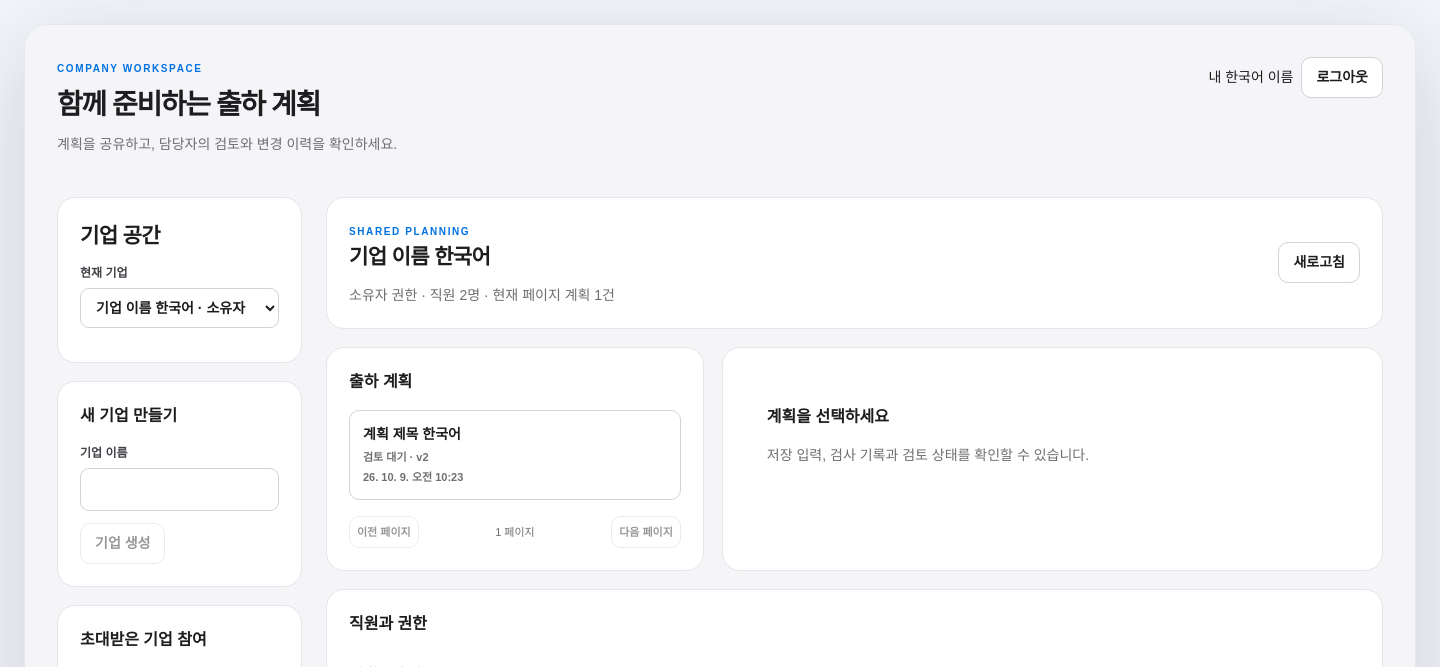
Scenario: preserves approval safety gates for ready through live language switches
The width and height of the screenshot is (1440, 667).
Click the button that starts with "계획 제목 한국어". click: (412, 434)
box: [349, 410, 681, 500]
(page scrolled)
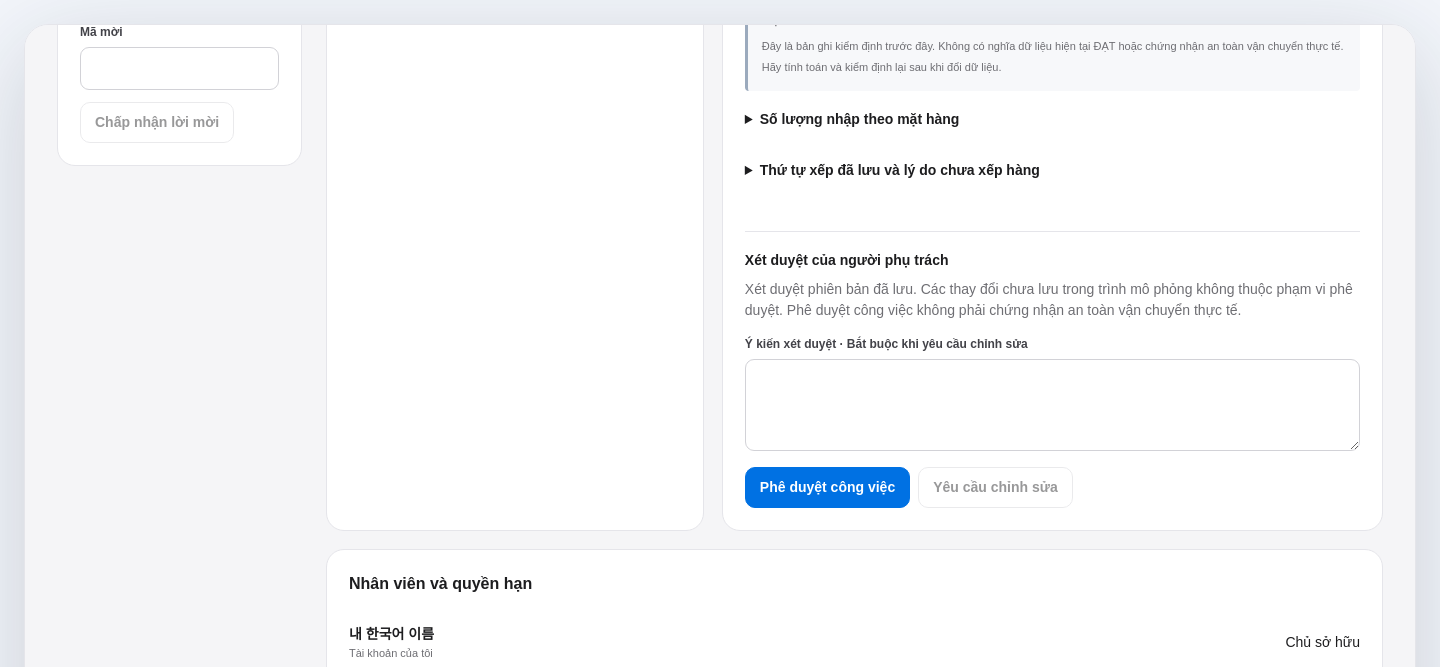
Expected: the button "Phê duyệt công việc" is enabled, [745, 467, 910, 508]
Expected: the text box labelled "Ý kiến xét duyệt · Bắt buộc khi yêu cầu chỉnh sửa" is enabled, [745, 359, 1360, 451]
